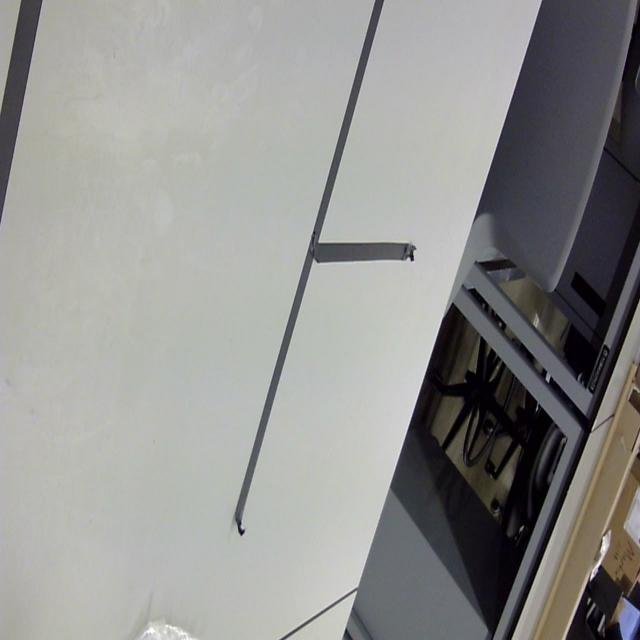tape: (217, 0, 424, 552)
